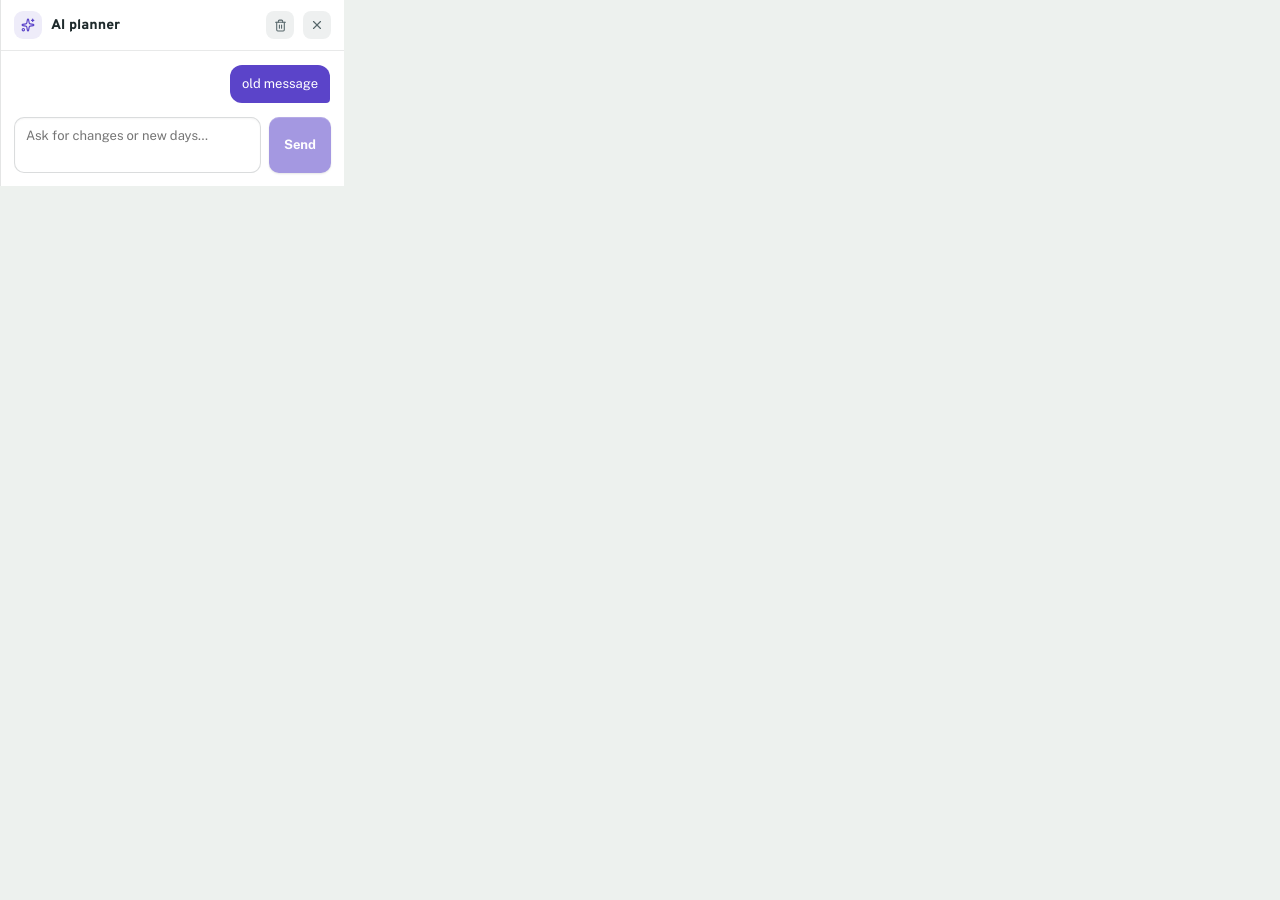
Scenario: ChatPanel › clears the chat after confirmation
Expected: the text "old message" is shown, [230,65,330,102]
Click the button named "Clear chat" at (280, 25), box [266,11,294,39]
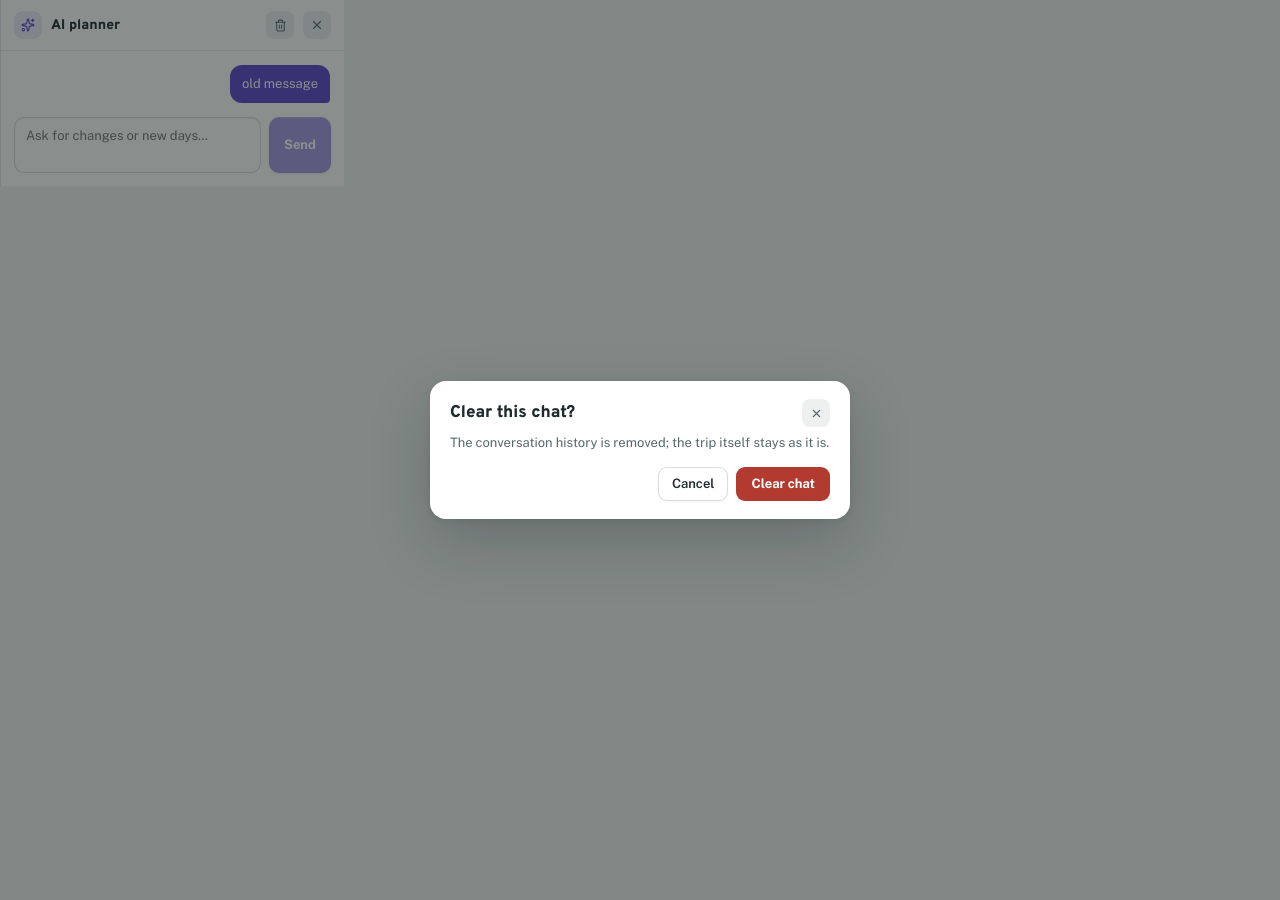
Click the button "Clear chat" at (783, 484), box [736,467,830,501]
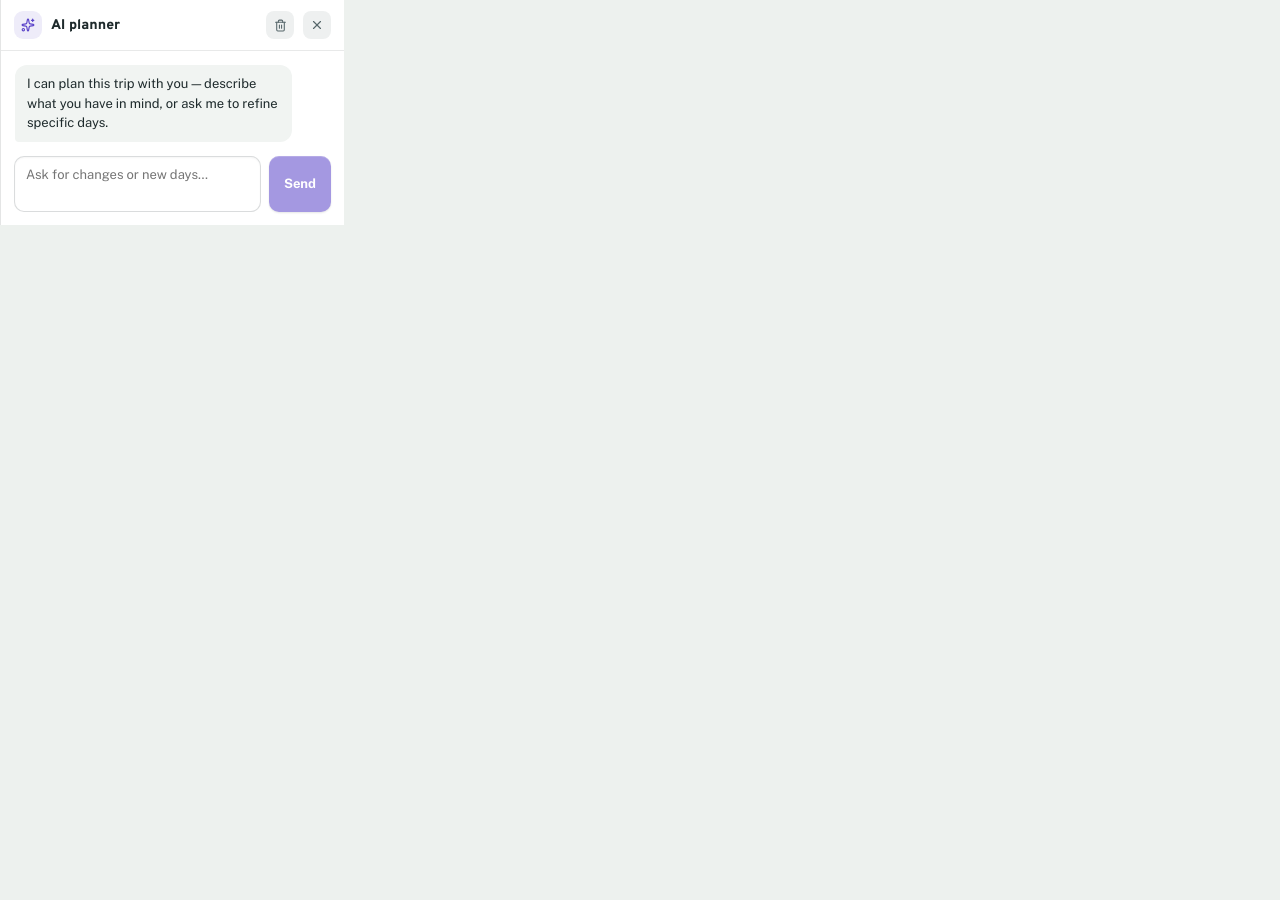
Now the text "old message" is gone
